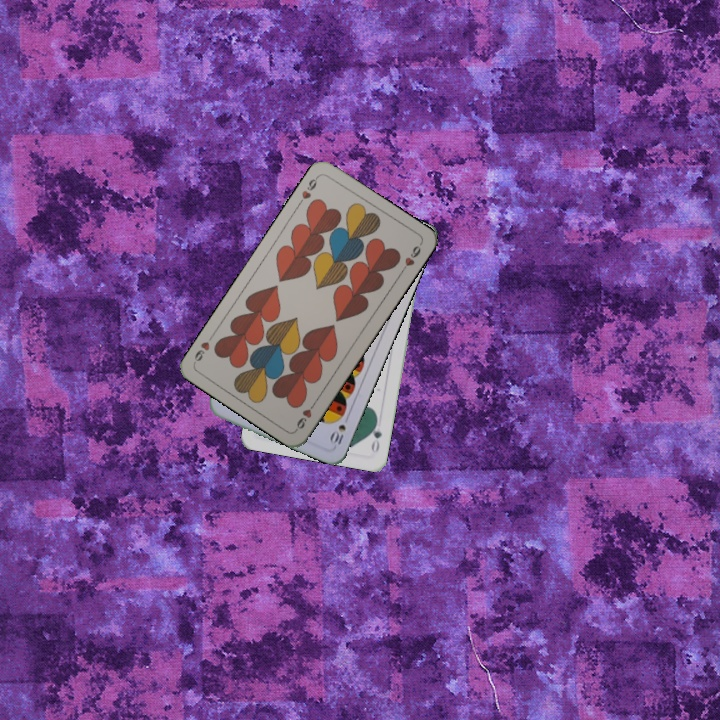GO: (367, 415, 384, 455)
H9: (291, 397, 319, 432), (294, 172, 321, 208)
S10: (326, 411, 352, 447)
